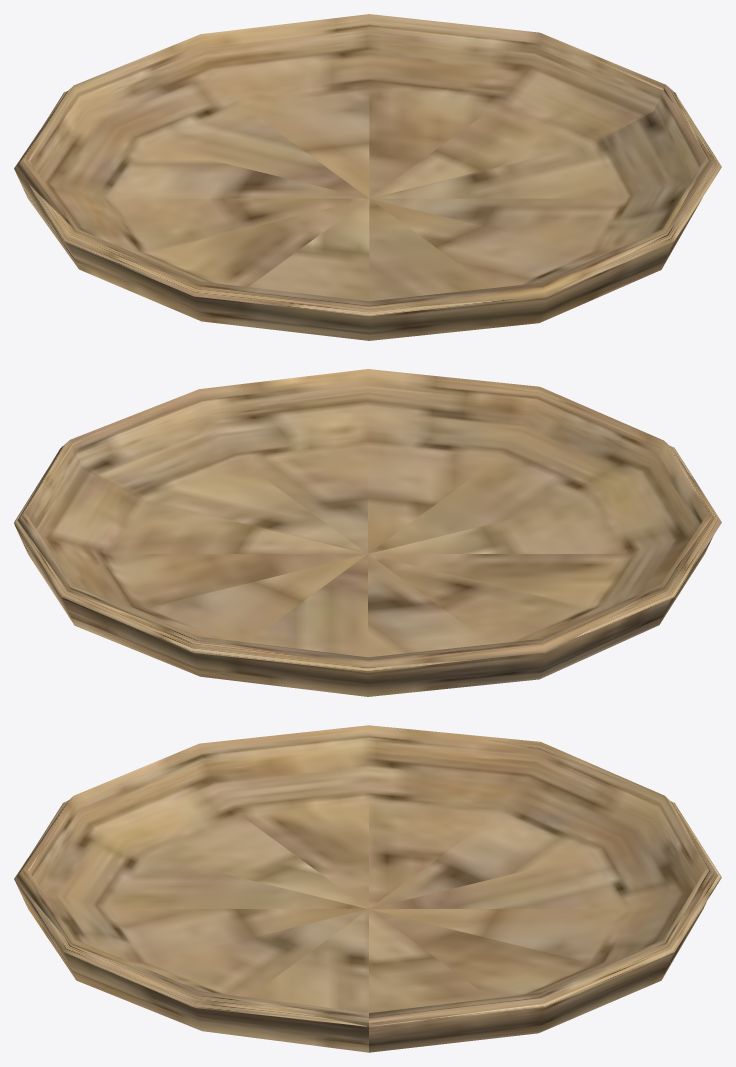
File: prop_kula_lod2.glb
3 renders of one model, top to bottom at view 1: azimuth 30°, elevation 25°; view 2: azimuth 150°, elevation 25°; view 3: azimuth 270°, elevation 25°, orthographic.
Visible parts, largest first — view 1: prop_kula; view 2: prop_kula; view 3: prop_kula.
Boxes of the visible parts, x1,y1,x2,y2 form: prop_kula: (14,14,721,340); prop_kula: (14,369,721,696); prop_kula: (14,725,721,1052).
Bounding box in the file's own units: 0.5 × 0.045 × 0.5.
1 material, 1 textured.
